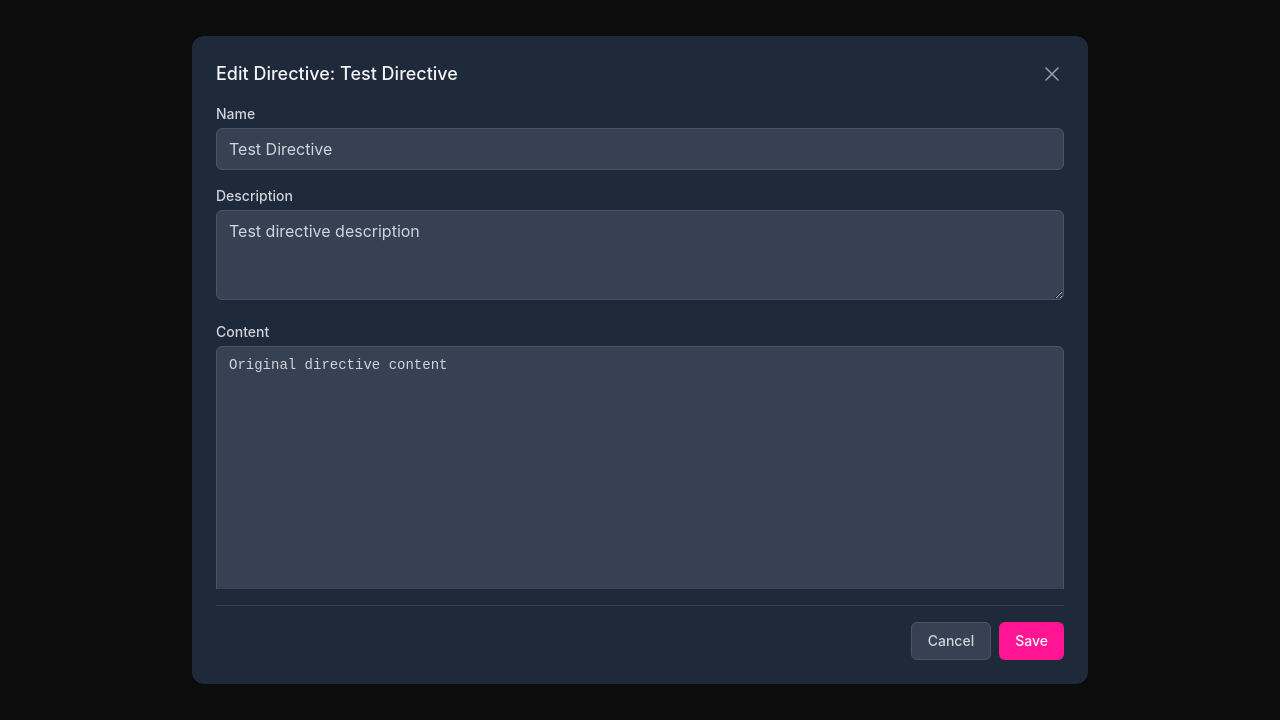
Test case: KnowledgeUnitEditModal › Unsaved changes handling › should keep modal open when Keep Editing is clicked in ConfirmDialog
Replace the text in the field labelled "Name" with "Test Directive Modified" at {"x": 640, "y": 149}, box [216,128,1064,170]
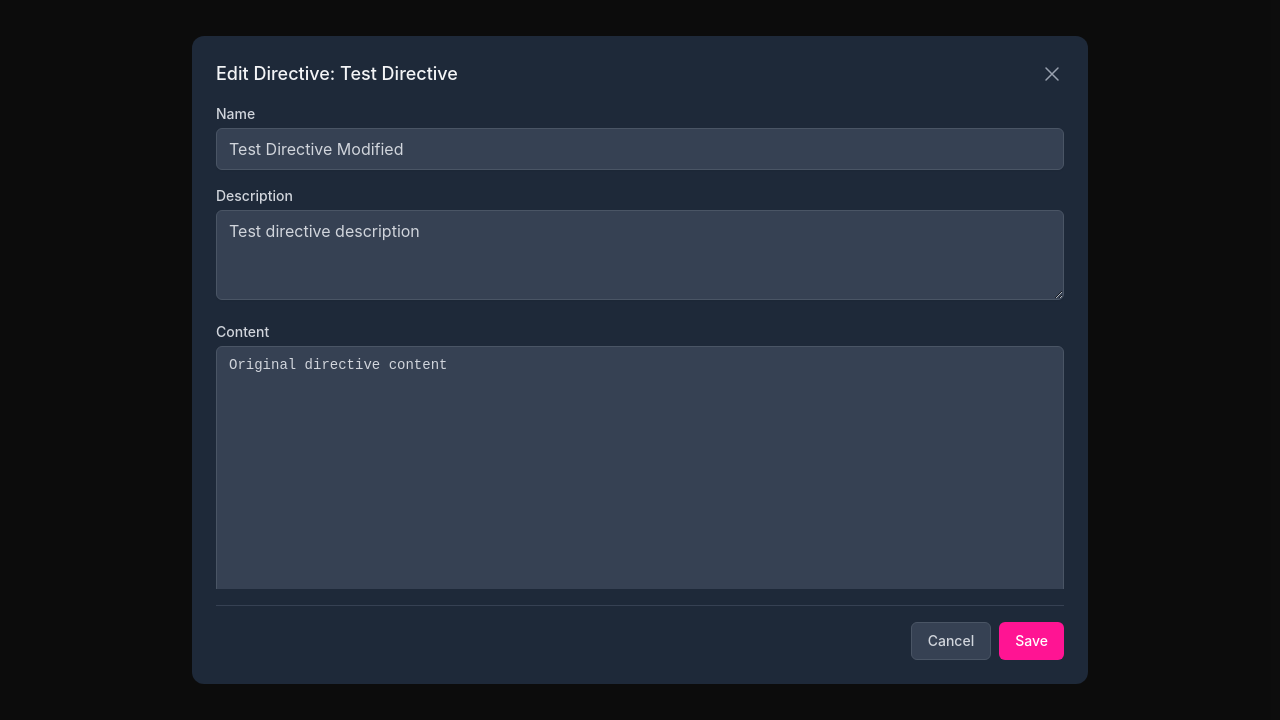
Note: Try to close — opens ConfirmDialog
Click the button "Cancel" at {"x": 951, "y": 641}, box [911,622,991,660]
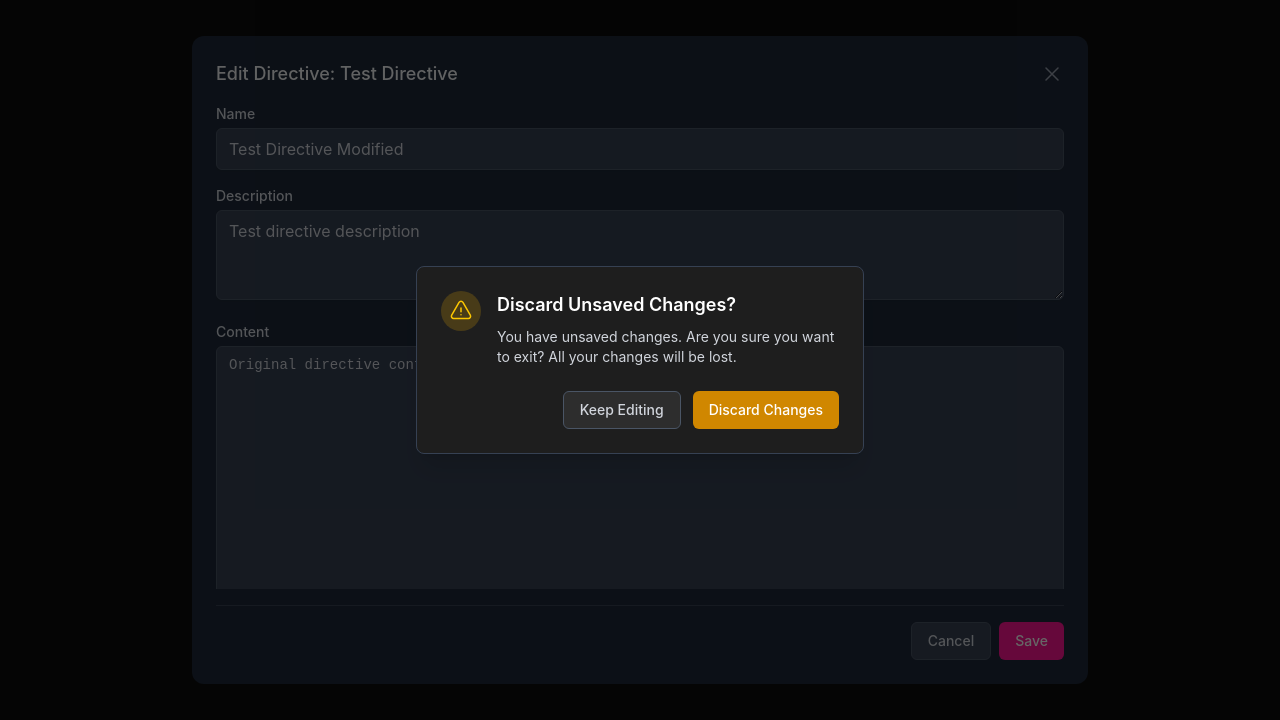
Now the heading "Discard Unsaved Changes?" is shown, box [497,294,736,315]
Note: Click "Keep Editing"
Click the button "Keep Editing" at {"x": 622, "y": 410}, box [563,391,681,429]
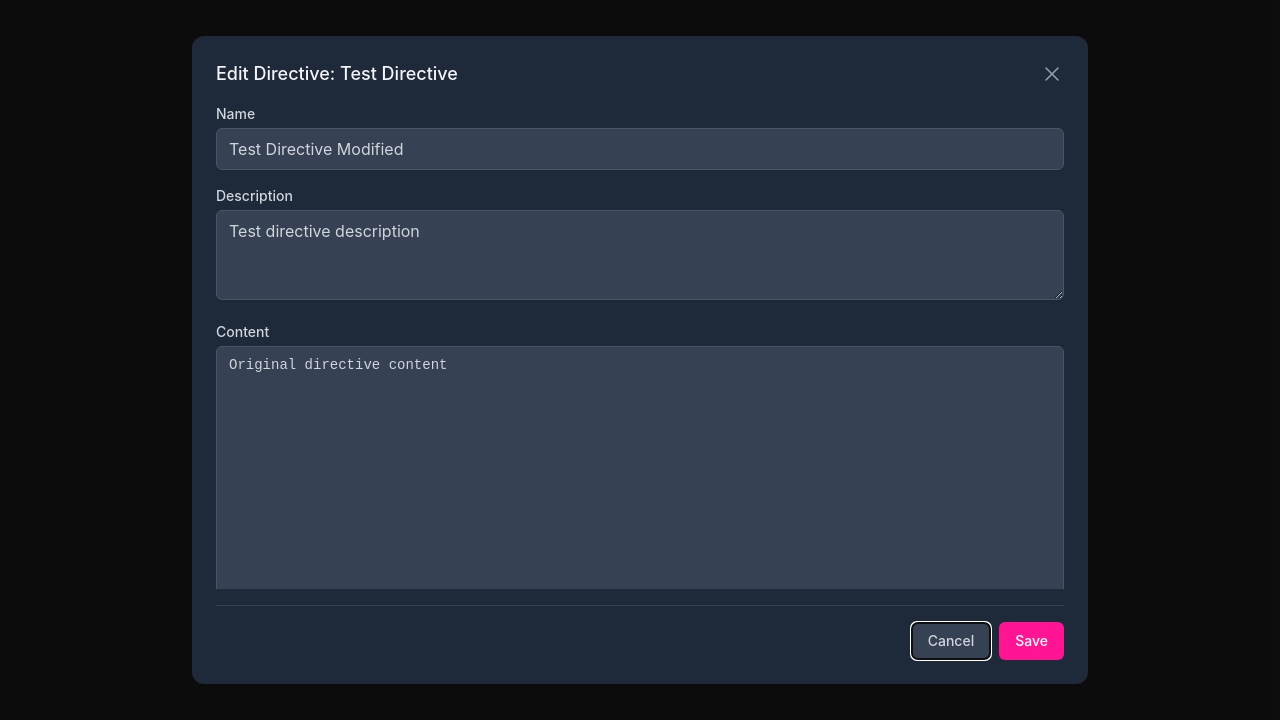
Now the heading "Discard Unsaved Changes?" is gone
